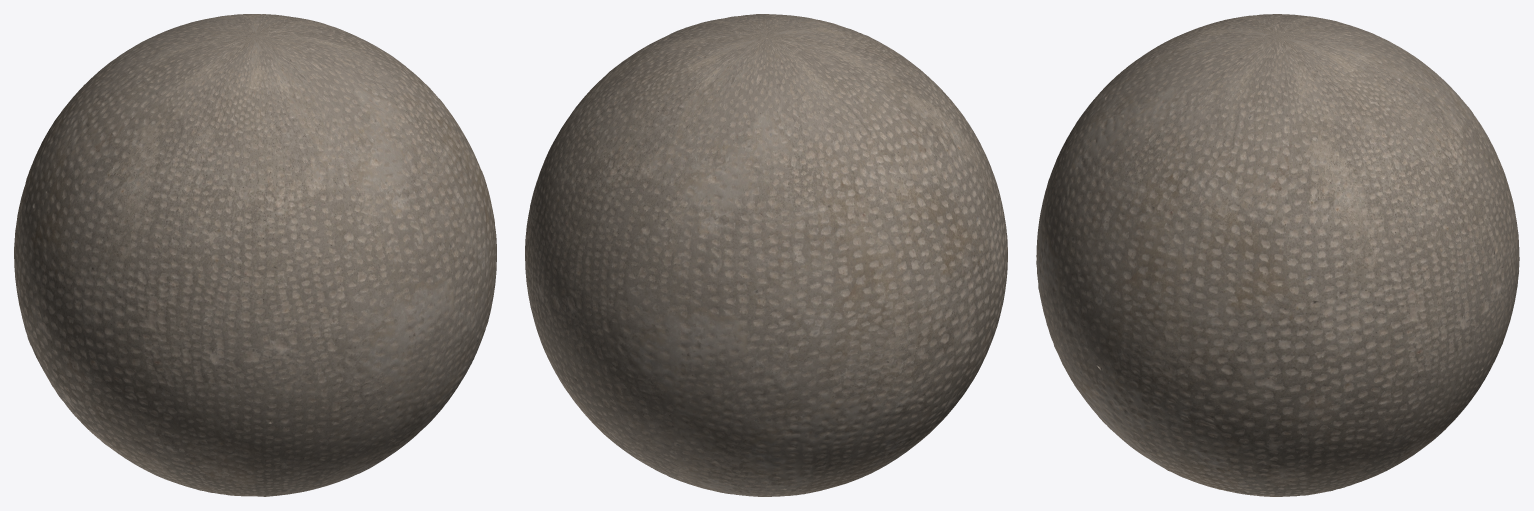
File: chipped_concrete_1k.gltf
3 views of the same model, side by side, from view 1: azimuth 30°, elevation 25°; view 2: azimuth 150°, elevation 25°; view 3: azimuth 270°, elevation 25° (orthographic).
Parts seen in each view (by area): view 1: sphere_gltf; view 2: sphere_gltf; view 3: sphere_gltf.
Part boxes in pixels (bbox=[...]): sphere_gltf: bbox=[14, 14, 496, 496]; sphere_gltf: bbox=[525, 14, 1007, 496]; sphere_gltf: bbox=[1036, 14, 1519, 496].
Size of the model in its own units: 2 by 2 by 2.
1 material, 1 textured.
